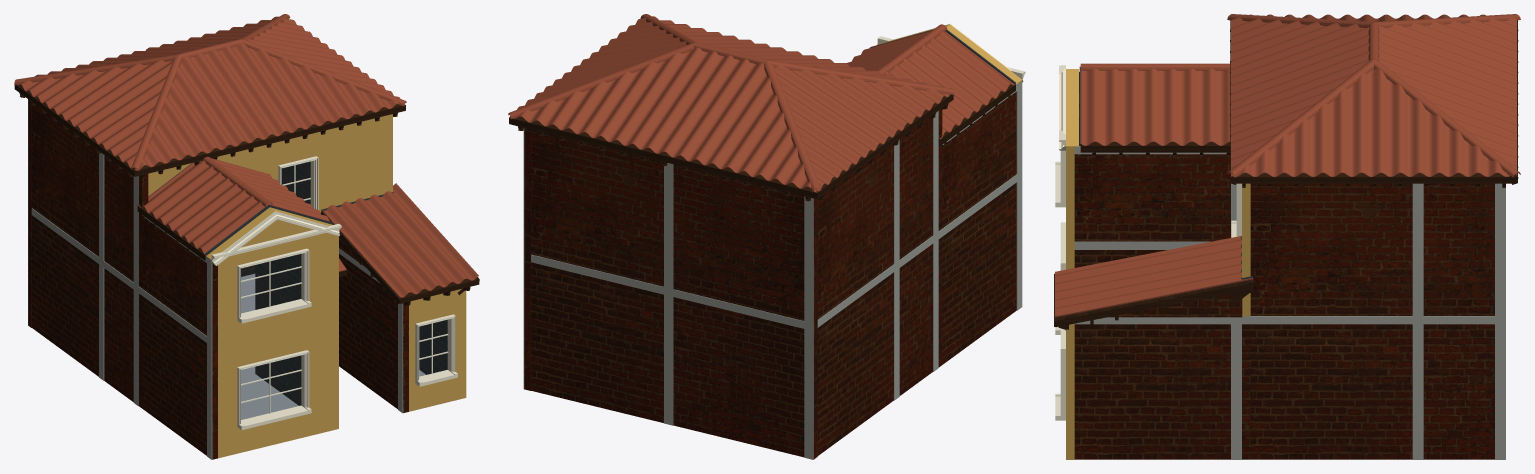
The model's file is building.glb.
3 renders of one model, left to right at view 1: azimuth 30°, elevation 25°; view 2: azimuth 150°, elevation 25°; view 3: azimuth 270°, elevation 25°, orthographic. The views are drawn at different scales.
Visible parts, largest first — view 1: house:0/edge3/z0/house:0/edge3/z0/wall_0_0, wing:0/edge0/z0/wing:0/edge0/z0/wall_0_0, wing:0/edge3/z0/wing:0/edge3/z0/wall_0_0, house:0/edge0/z0/house:0/edge0/z0/wall_0_0, porch:0/edge3/z0/porch:0/edge3/z0/wall_0_0, porch:0/edge0/z0/porch:0/edge0/z0/wall_0_0, wing:0/edge1/z0/wing:0/edge1/z0/wall_0_0, wing:0/edge0/z0/opening_u0.80_v0.80/window_glass#0001, wing:0/edge0/z0/opening_u0.80_v4.00/window_glass#0001, roof_assembly/principal/roof_fascia#0002, crown/fronton/crown_body#0001, porch:0/edge0/z0/opening_u0.40_v0.80/window_glass#0001 (+20 smaller); view 2: house:0/edge2/z0/house:0/edge2/z0/wall_0_0, house:0/edge3/z0/house:0/edge3/z0/wall_0_0, wing:0/edge3/z0/wing:0/edge3/z0/wall_0_0, house:0/edge2/z0/house:0/edge2/z0/beam_0_0, roof_assembly/principal/roof_fascia#0004, house:0/edge1/z0/house:0/edge1/z0/wall_0_0, house:0/edge2/z0/house:0/edge2/z0/column_1_0, house:0/edge2/z0/house:0/edge2/z0/column_2_0, house:0/edge2/z0/house:0/edge2/z0/column_2_1, house:0/edge2/z0/house:0/edge2/z0/column_1_1, house:0/edge3/z0/house:0/edge3/z0/beam_0_0, roof_assembly/principal/roof_fascia#0001 (+9 smaller); view 3: house:0/edge1/z0/house:0/edge1/z0/wall_0_0, porch:0/edge1/z0/porch:0/edge1/z0/wall_0_0, wing:0/edge1/z0/wing:0/edge1/z0/wall_0_0, house:0/edge1/z0/house:0/edge1/z0/beam_0_0, roof_assembly/principal/roof_fascia#0003, roof_assembly/lateral/roof_gable_closure#0004, house:0/edge1/z0/house:0/edge1/z0/column_2_0, house:0/edge1/z0/house:0/edge1/z0/column_2_1, roof_assembly/lateral/roof_fascia#0003, house:0/edge1/z0/house:0/edge1/z0/column_1_0, porch:0/edge1/z0/porch:0/edge1/z0/column_1_0, house:0/edge1/z0/house:0/edge1/z0/column_1_1 (+11 smaller).
Boxes of the visible parts, box(x1,y1,x2,y2) form: house:0/edge3/z0/house:0/edge3/z0/wall_0_0: box(32, 105, 148, 408); wing:0/edge0/z0/wing:0/edge0/z0/wall_0_0: box(218, 232, 338, 458); wing:0/edge3/z0/wing:0/edge3/z0/wall_0_0: box(142, 216, 217, 459); house:0/edge0/z0/house:0/edge0/z0/wall_0_0: box(148, 114, 392, 212); porch:0/edge3/z0/porch:0/edge3/z0/wall_0_0: box(339, 254, 408, 413); porch:0/edge0/z0/porch:0/edge0/z0/wall_0_0: box(409, 289, 466, 411); wing:0/edge1/z0/wing:0/edge1/z0/wall_0_0: box(255, 254, 300, 405); wing:0/edge0/z0/opening_u0.80_v0.80/window_glass#0001: box(241, 355, 301, 419); wing:0/edge0/z0/opening_u0.80_v4.00/window_glass#0001: box(241, 254, 301, 313); roof_assembly/principal/roof_fascia#0002: box(134, 105, 405, 176); crown/fronton/crown_body#0001: box(206, 207, 332, 259); porch:0/edge0/z0/opening_u0.40_v0.80/window_glass#0001: box(419, 320, 447, 376); house:0/edge2/z0/house:0/edge2/z0/wall_0_0: box(531, 129, 817, 459); house:0/edge3/z0/house:0/edge3/z0/wall_0_0: box(817, 108, 942, 455); wing:0/edge3/z0/wing:0/edge3/z0/wall_0_0: box(942, 92, 1016, 364); house:0/edge2/z0/house:0/edge2/z0/beam_0_0: box(531, 254, 813, 330); roof_assembly/principal/roof_fascia#0004: box(509, 118, 817, 198); house:0/edge1/z0/house:0/edge1/z0/wall_0_0: box(524, 128, 531, 390); house:0/edge2/z0/house:0/edge2/z0/column_1_0: box(804, 329, 813, 459); house:0/edge2/z0/house:0/edge2/z0/column_2_0: box(664, 295, 673, 425); house:0/edge2/z0/house:0/edge2/z0/column_2_1: box(664, 163, 673, 289); house:0/edge2/z0/house:0/edge2/z0/column_1_1: box(804, 196, 813, 323); house:0/edge3/z0/house:0/edge3/z0/beam_0_0: box(817, 228, 942, 327); roof_assembly/principal/roof_fascia#0001: box(817, 94, 953, 198); house:0/edge1/z0/house:0/edge1/z0/wall_0_0: box(1250, 183, 1494, 459); porch:0/edge1/z0/porch:0/edge1/z0/wall_0_0: box(1074, 324, 1250, 459); wing:0/edge1/z0/wing:0/edge1/z0/wall_0_0: box(1074, 142, 1230, 267); house:0/edge1/z0/house:0/edge1/z0/beam_0_0: box(1250, 316, 1505, 324); roof_assembly/principal/roof_fascia#0003: box(1231, 176, 1516, 183); roof_assembly/lateral/roof_gable_closure#0004: box(1108, 293, 1241, 317); house:0/edge1/z0/house:0/edge1/z0/column_2_0: box(1412, 324, 1423, 459); house:0/edge1/z0/house:0/edge1/z0/column_2_1: box(1412, 183, 1423, 316); roof_assembly/lateral/roof_fascia#0003: box(1054, 282, 1253, 326); house:0/edge1/z0/house:0/edge1/z0/column_1_0: box(1495, 324, 1505, 459); porch:0/edge1/z0/porch:0/edge1/z0/column_1_0: box(1231, 324, 1241, 459); house:0/edge1/z0/house:0/edge1/z0/column_1_1: box(1495, 183, 1505, 316).
Bounding box in the file's own units: 8.67 × 8.68 × 10.6.
Materials: 10 (2 with a texture image).
